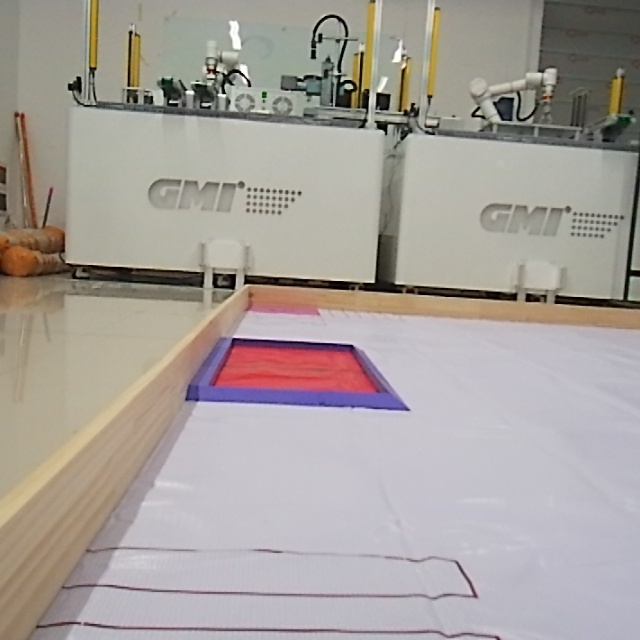zone1: (183, 331, 413, 416)
